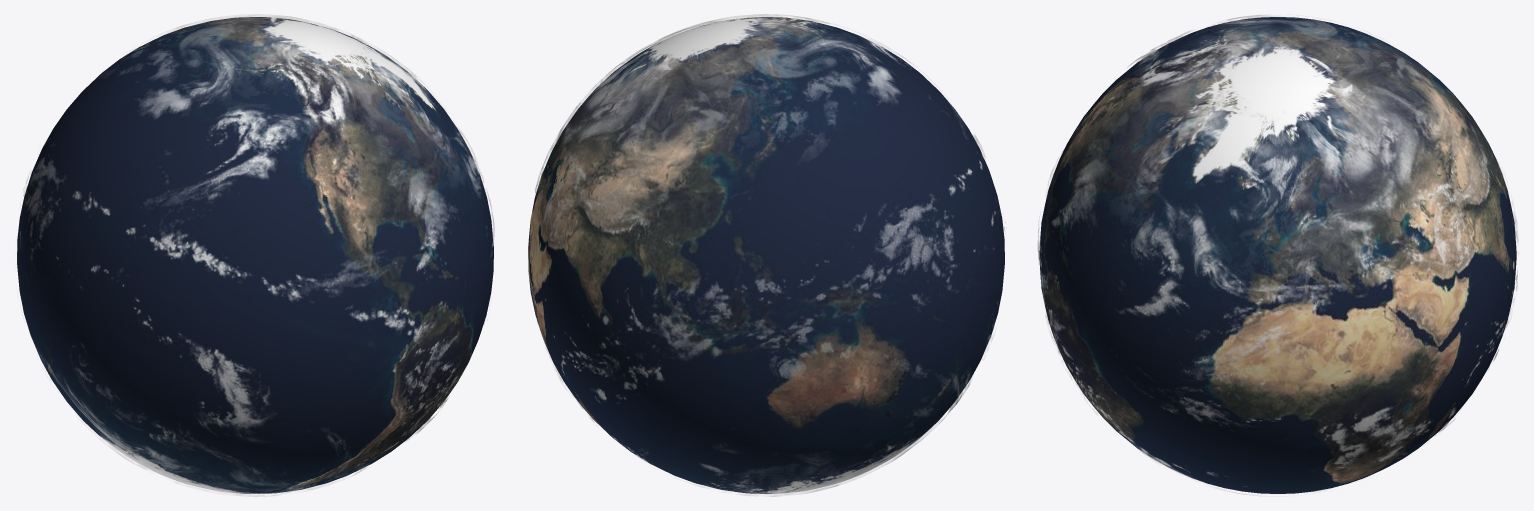
Rendered from earth.glb.
The picture shows the model from 3 angles, left to right: view 1: azimuth 30°, elevation 25°; view 2: azimuth 150°, elevation 25°; view 3: azimuth 270°, elevation 25°; orthographic projection.
Visible parts, largest first — view 1: earth, earth_clouds; view 2: earth, earth_clouds; view 3: earth, earth_clouds.
Boxes of the visible parts, x1,y1,x2,y2 form: earth: [17, 17, 493, 493]; earth_clouds: [20, 14, 494, 496]; earth: [528, 17, 1004, 493]; earth_clouds: [535, 14, 1006, 496]; earth: [1039, 17, 1516, 493]; earth_clouds: [1037, 14, 1518, 496].
Bounding box in the file's own units: 2.02 × 2.02 × 2.02.
Materials: 2 (2 with a texture image).
